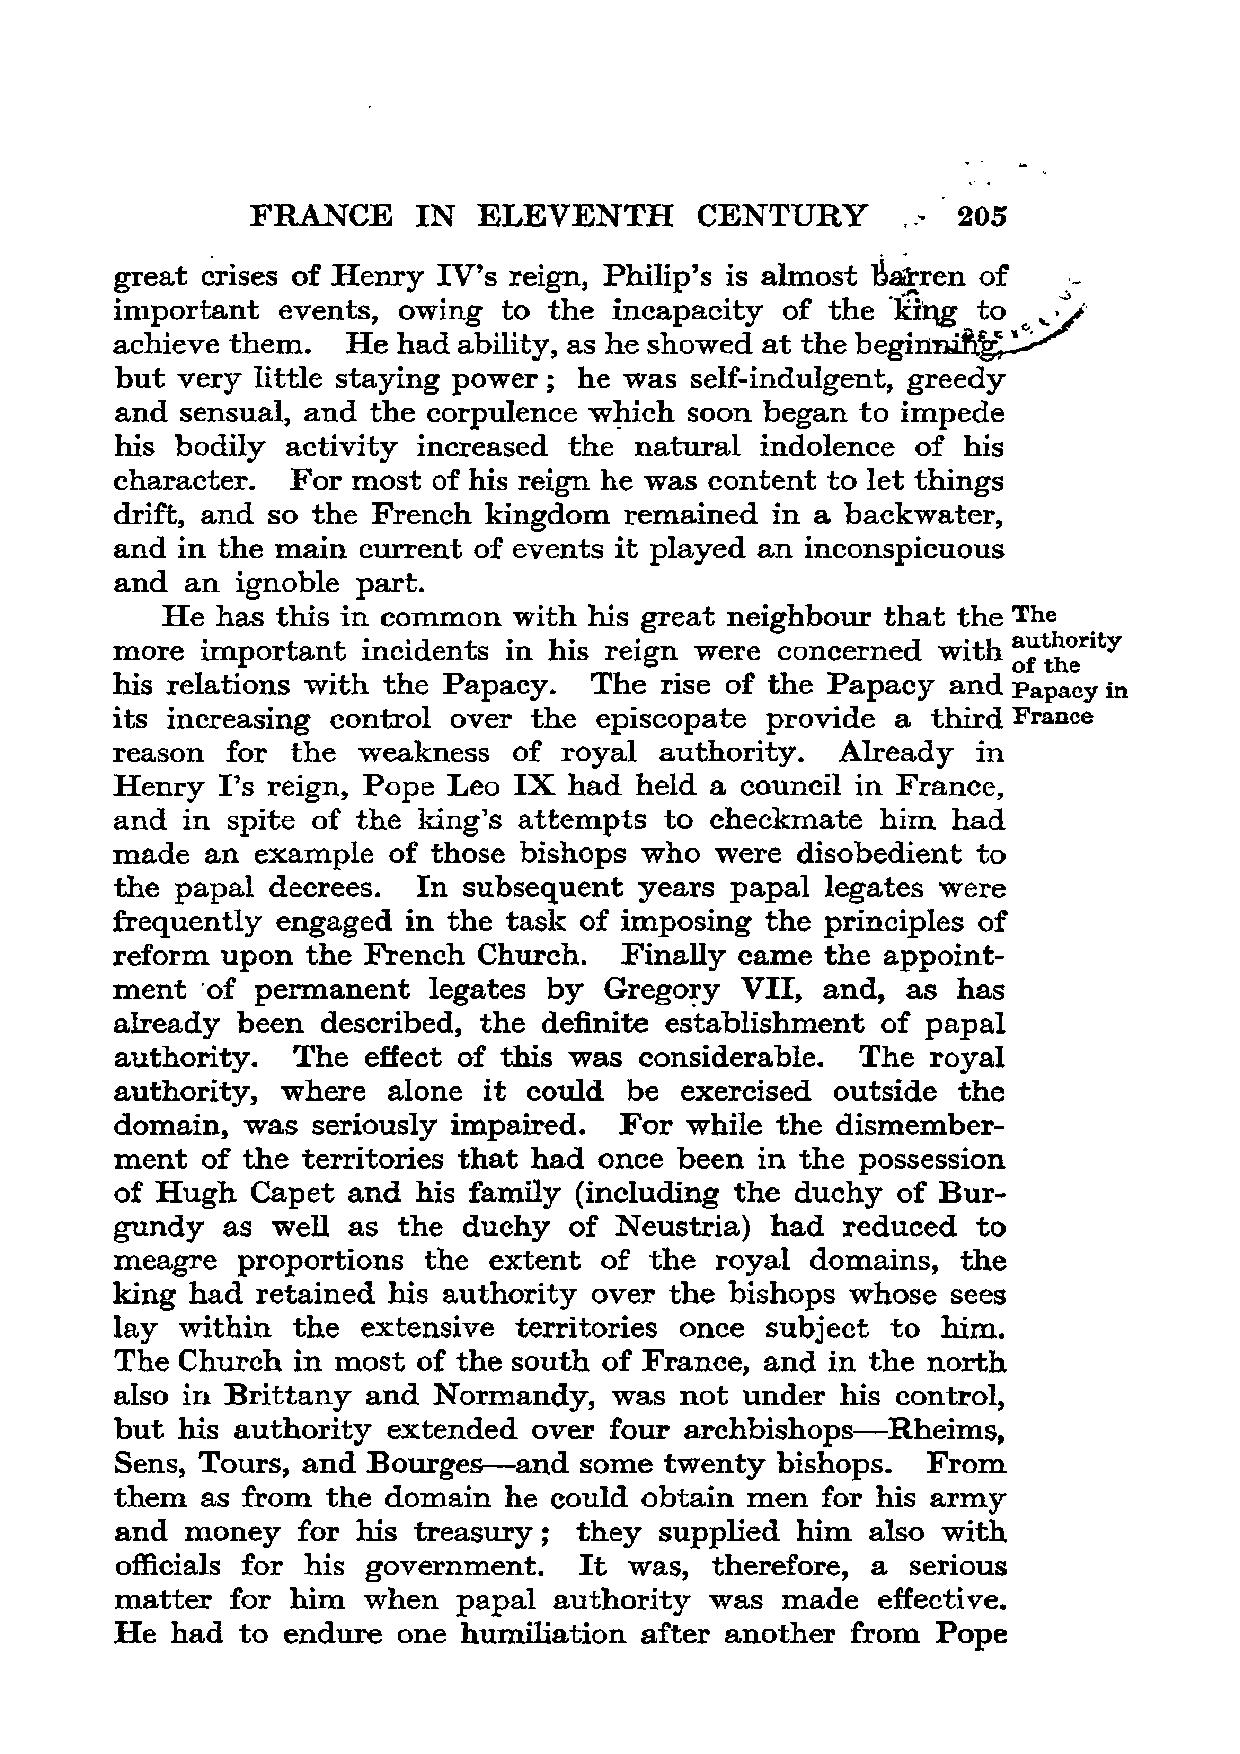content: (107, 260, 1009, 1657)
content_chapter: (246, 196, 868, 229)
content_pagenumber: (953, 197, 1008, 227)
